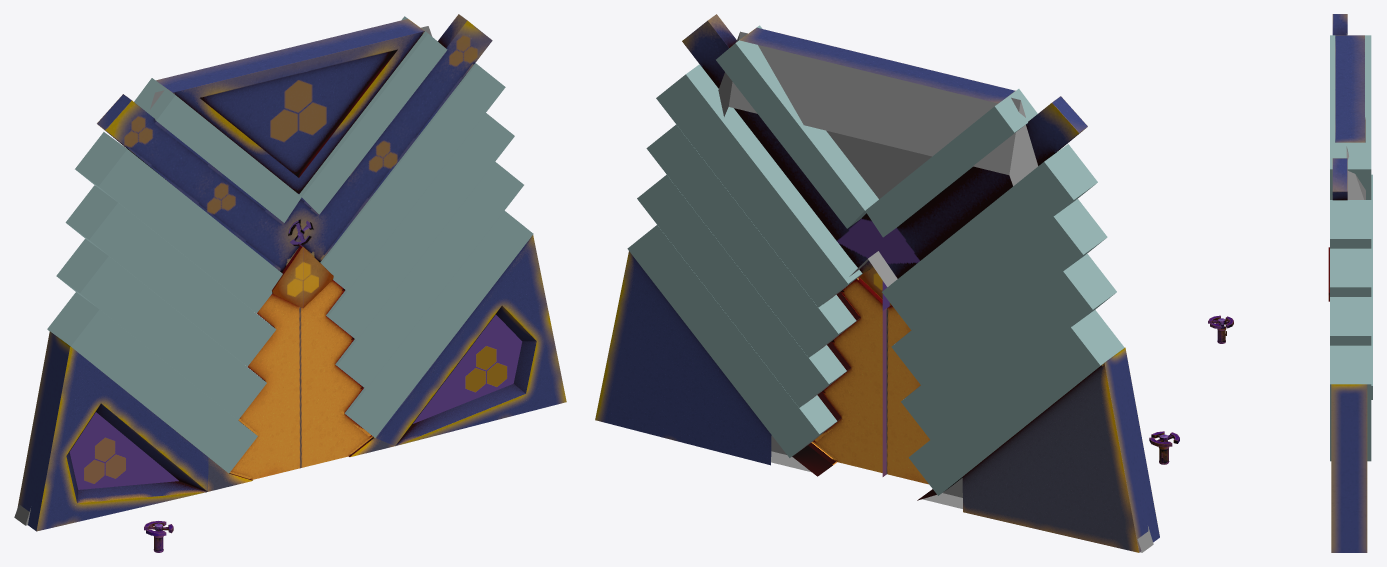
File: FullDoor_kit.FBX
3 renders of one model, left to right at view 1: azimuth 30°, elevation 25°; view 2: azimuth 150°, elevation 25°; view 3: azimuth 270°, elevation 25°, orthographic. The views are drawn at different scales.
Parts seen in each view (by area): view 1: Box013, Plane008, Plane007, Box001, Box016, Box015, Box017, Box014, Box005, Box004, Box003, Box002 (+4 smaller); view 2: Box013, Plane004, Box001, Box005, Plane007, Box016, Box017, Box014, Box015, Box003, Box004, Box002 (+5 smaller); view 3: Box001, Plane008, Box002, Box003, Box005, Box004, Box011, Box012, Plane007, Plane004, Box014, Object001.
Part boxes in pixels (box(x1,y1,x2,y2)): Box013: box(17, 331, 252, 531); Plane008: box(156, 19, 424, 193); Plane007: box(97, 14, 492, 272); Box001: box(349, 235, 566, 456); Box016: box(65, 185, 276, 366); Box015: box(56, 239, 266, 419); Box017: box(75, 132, 282, 313); Box014: box(47, 292, 257, 473); Box005: box(320, 63, 505, 291); Box004: box(326, 113, 514, 339); Box003: box(335, 161, 523, 388); Box002: box(344, 210, 533, 437); Box013: box(917, 347, 1159, 552); Plane004: box(718, 31, 1153, 552); Box001: box(595, 251, 832, 476); Box005: box(656, 64, 862, 307); Plane007: box(682, 14, 1087, 278); Box016: box(891, 199, 1107, 384); Box017: box(882, 144, 1097, 330); Box014: box(908, 310, 1124, 495); Box015: box(901, 254, 1116, 439); Box003: box(637, 174, 847, 407); Box004: box(646, 124, 859, 357); Box002: box(627, 225, 839, 457); Box001: box(1331, 384, 1367, 552); Plane008: box(1335, 35, 1364, 142); Box002: box(1330, 345, 1371, 461); Box003: box(1330, 297, 1371, 345); Box005: box(1330, 200, 1371, 248); Box004: box(1330, 248, 1371, 296); Box011: box(1330, 142, 1371, 199); Box012: box(1330, 35, 1371, 142); Plane007: box(1332, 14, 1347, 200); Plane004: box(1346, 33, 1365, 199); Box014: box(1371, 174, 1372, 399); Object001: box(1208, 315, 1233, 343).
Bounding box in the file's own units: 323 × 237 × 99.43.
3 materials, 1 textured.
